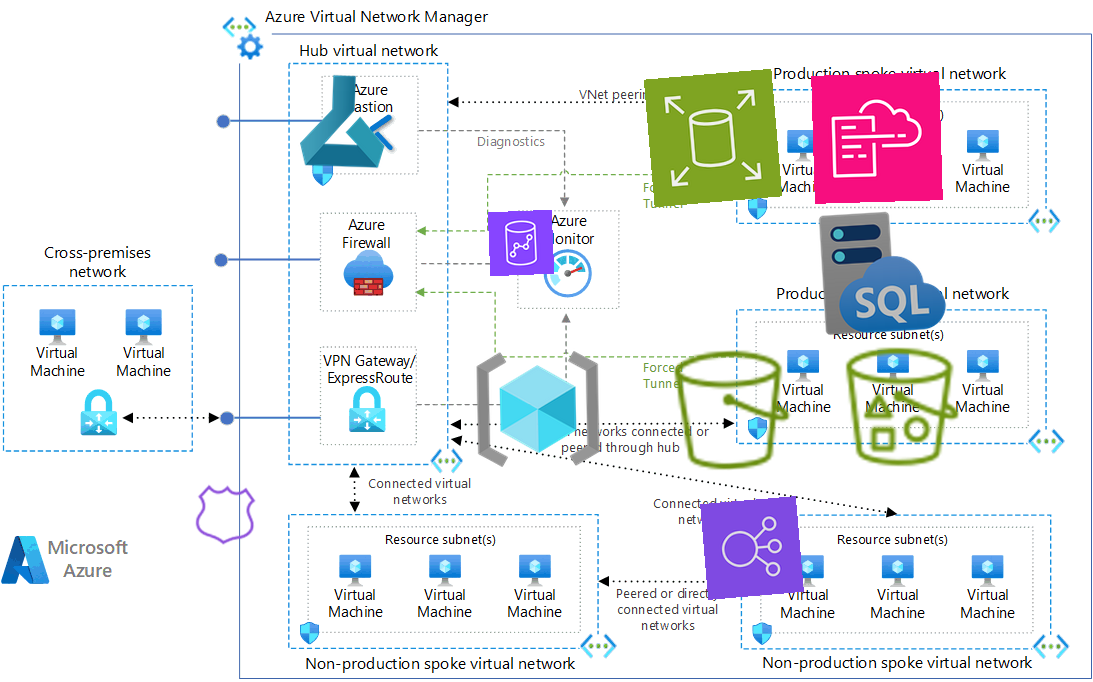aws_amazon_elastic_block_store: (643, 68, 783, 208)
aws_amazon_redshift: (487, 209, 555, 277)
aws_cloudformation: (811, 72, 943, 204)
aws_elastic_load_balancing: (700, 496, 804, 600)
aws_route_53_hosted_zone: (191, 480, 261, 550)
aws_simple_storage_service_bucket: (666, 344, 798, 476)
aws_simple_storage_service_bucket_with_objects: (837, 342, 967, 472)
azure_machine_learning: (293, 71, 393, 171)
azure_resource_groups: (472, 343, 604, 475)
azure_sql_managed_instance: (815, 204, 951, 340)
